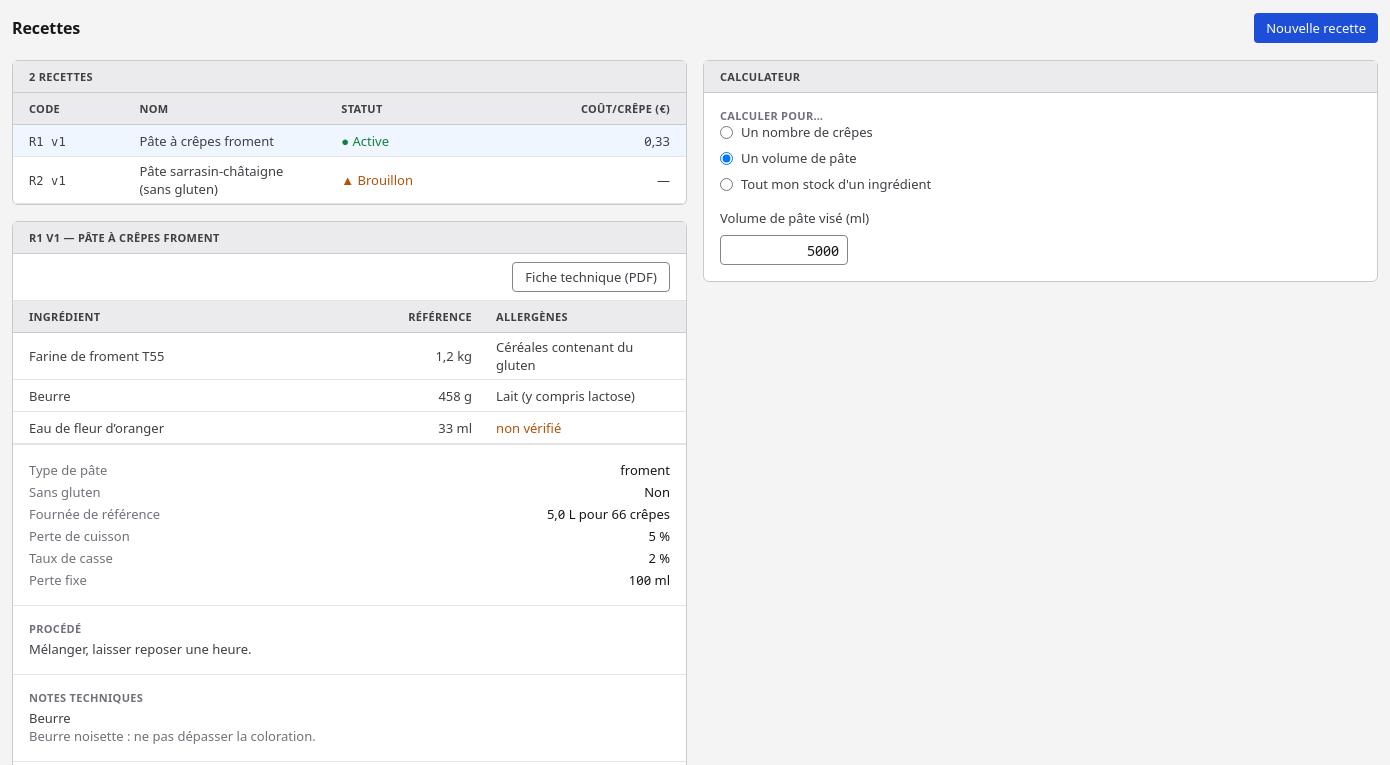
Recettes — une recette qui a servi ne se réécrit plus (D-005) › le calculateur d’une recette VIDE le dit, au lieu de rendre un formulaire inerte
The image size is (1390, 765).
Click the row "R2 v1 Pâte sarrasin-châtaigne (sans gluten) ▲ Brouillon —" at (350, 180), box [13,157,686,204]
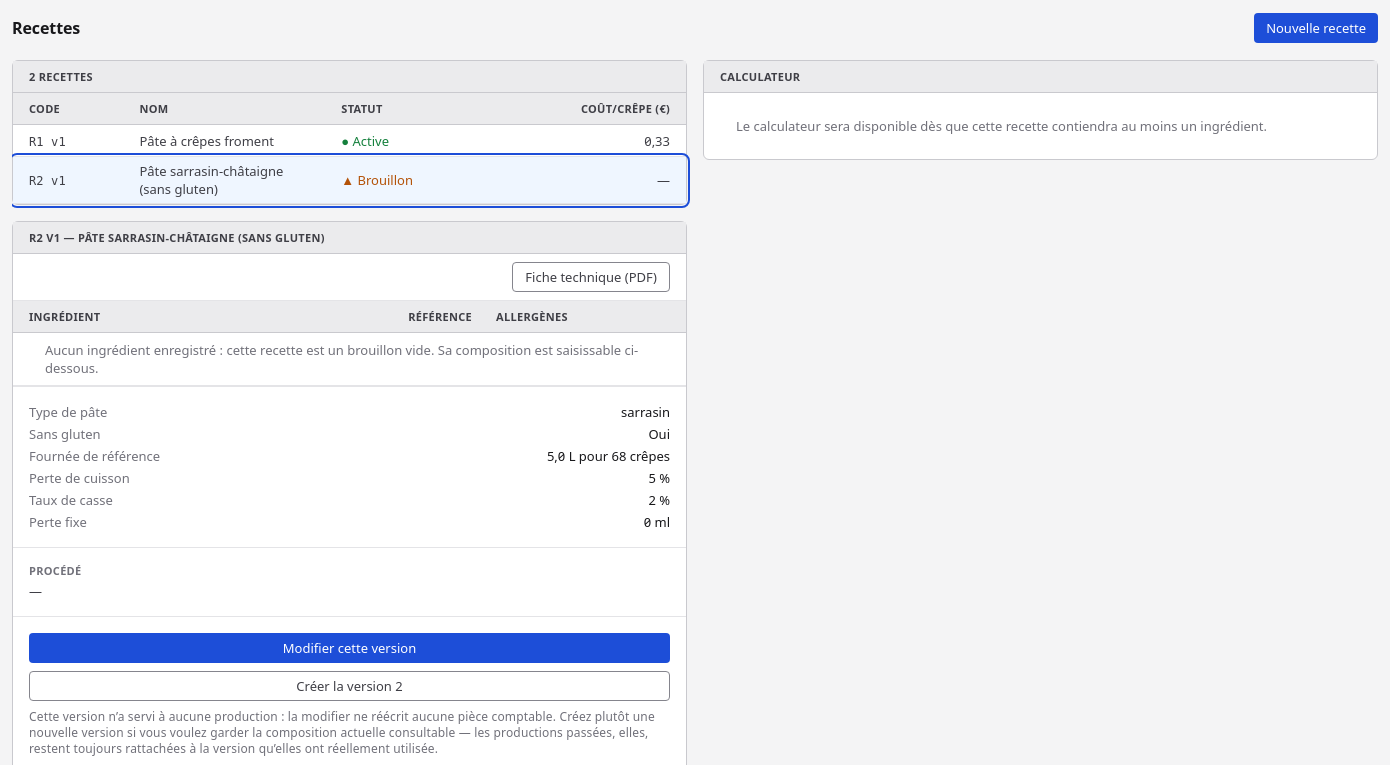
expect the text "Le calculateur sera disponible dès que cette recette contiendra" is shown: met, box [736,117,1267,135]
